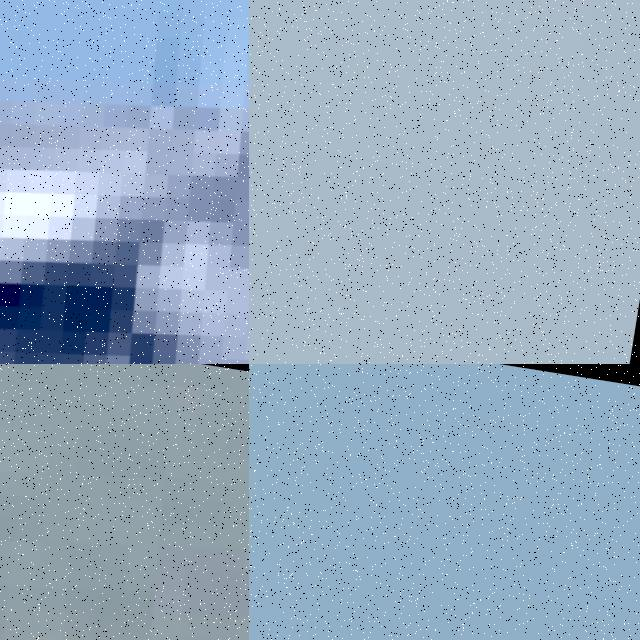drone: (0, 0, 249, 364), (0, 364, 249, 640)
